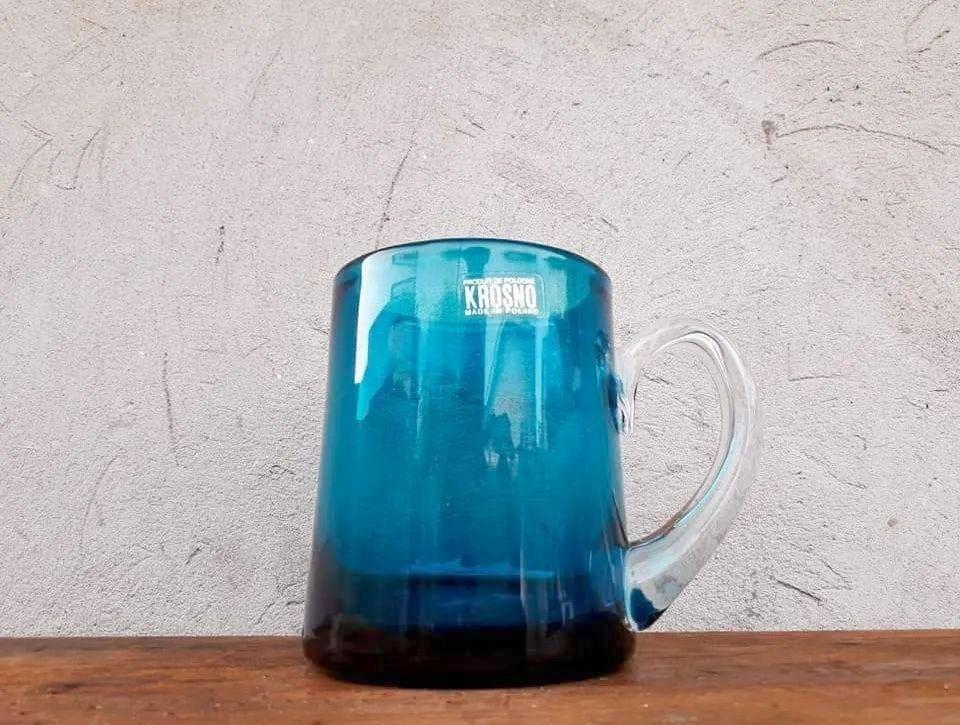glass-mug: (302, 232, 771, 698)
